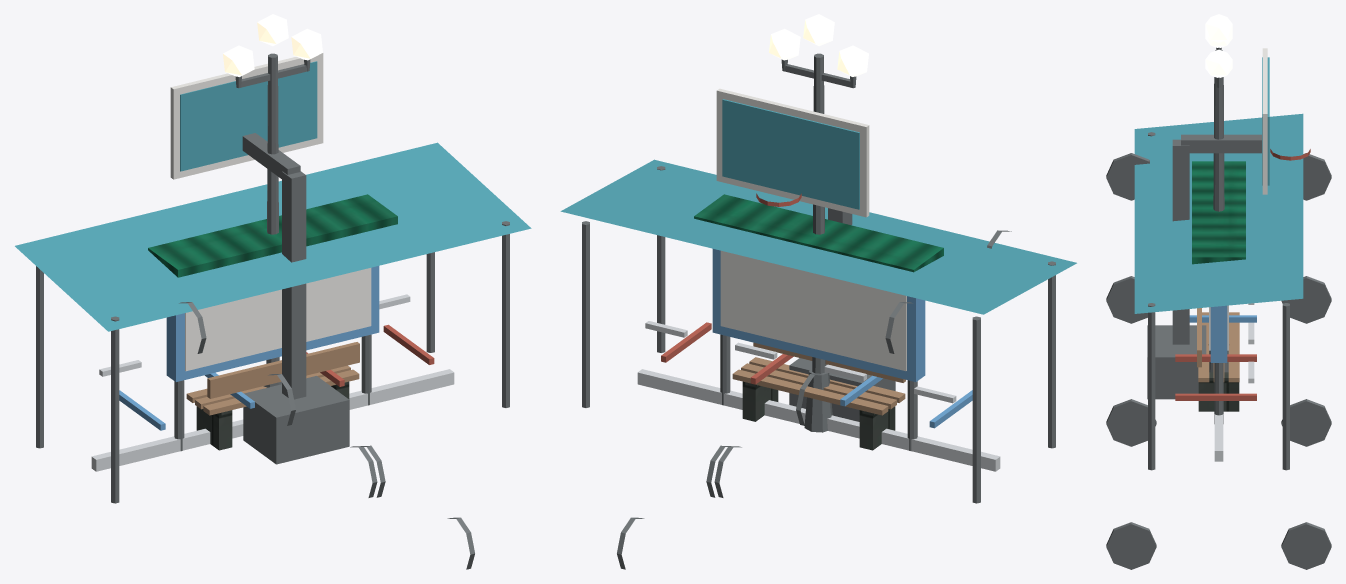
File: props_kit.glb
3 views of the same model, side by side, from view 1: azimuth 30°, elevation 25°; view 2: azimuth 150°, elevation 25°; view 3: azimuth 270°, elevation 25° (orthographic). The views are drawn at different scales.
Visible parts, largest first — view 1: prop_bike_rack, prop_basketball_hoop, prop_bulletin_board, prop_bench, prop_lamp_3globe; view 2: prop_bike_rack, prop_bulletin_board, prop_basketball_hoop, prop_bench, prop_lamp_3globe; view 3: prop_bike_rack, prop_basketball_hoop, prop_bulletin_board, prop_lamp_3globe, prop_bench.
Boxes of the visible parts, box(x1,y1,x2,y2) form: prop_bike_rack: box(15, 142, 531, 569); prop_basketball_hoop: box(170, 53, 349, 464); prop_bulletin_board: box(148, 194, 397, 451); prop_bench: box(186, 342, 359, 450); prop_lamp_3globe: box(223, 14, 322, 387); prop_bike_rack: box(560, 159, 1076, 569); prop_bulletin_board: box(694, 194, 943, 450); prop_basketball_hoop: box(716, 88, 895, 421); prop_bench: box(732, 342, 905, 450); prop_lamp_3globe: box(769, 14, 868, 432); prop_bike_rack: box(1106, 113, 1331, 569); prop_basketball_hoop: box(1147, 48, 1310, 399); prop_bulletin_board: box(1192, 161, 1245, 423); prop_lamp_3globe: box(1205, 14, 1232, 372); prop_bench: box(1197, 308, 1239, 411).
Bounding box in the file's own units: 5.2 × 6.49 × 2.68.
Materials: 10 (2 with a texture image).
